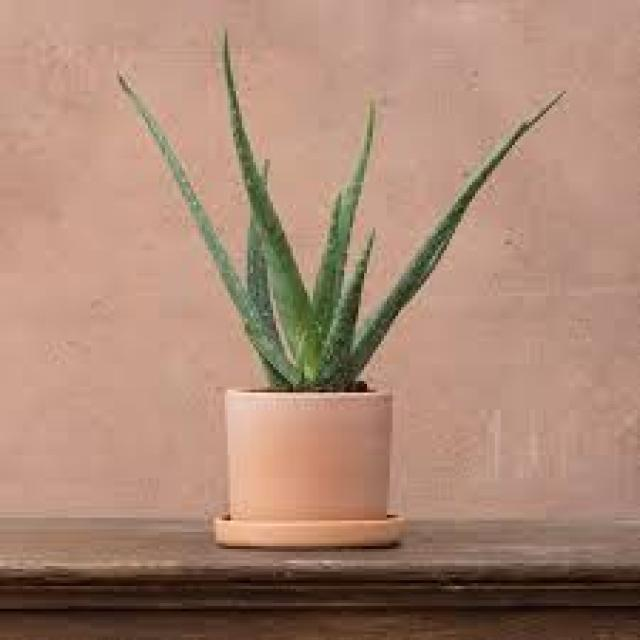cactus: (62, 15, 612, 387)
